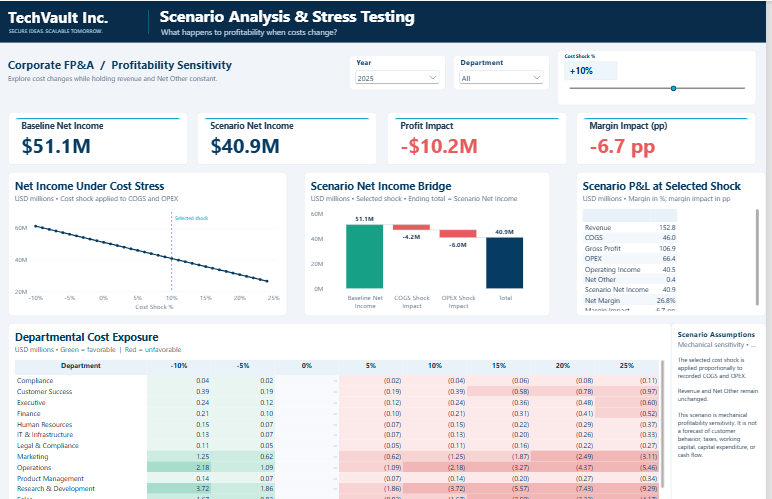

Layout of this report page (visuals, bound fields, positions):
{"tool":"powerbi","page":{"name":"Scenario Analysis","canvas":[1920,1600],"ordinal":1},"visuals":[{"type":"slicer","fields":{"Values":["Cost Shock %.Cost Shock %"]},"box":[1398,122,498,138],"z":0},{"type":"slicer","fields":{"Values":["dim_date.year"]},"box":[878,136,242,88],"z":1000},{"type":"cardVisual","fields":{"Data":["_measures.Scenario Net Income"]},"box":[498,278,450,132],"z":2000},{"type":"cardVisual","fields":{"Data":["_measures.Net Income Stress Impact $"]},"box":[972,278,450,132],"z":3000},{"type":"cardVisual","fields":{"Data":["_measures.Net Margin Stress Impact pp"]},"box":[1446,278,450,132],"z":4000},{"type":"cardVisual","fields":{"Data":["_measures.Net Income"]},"box":[24,278,450,132],"z":5000},{"type":"lineChart","title":"Net Income Under Cost Stress","fields":{"Category":["Stress Grid.Value"],"Y":["_measures.Net Income at Grid Shock"]},"box":[25,427.5,697.5,360],"z":6000},{"type":"waterfallChart","title":"Scenario Net Income Bridge","fields":{"Category":["Scenario Bridge.Stage"],"Y":["_measures.Scenario Bridge Amount"]},"box":[765,427.5,615,360],"z":7000},{"type":"pivotTable","title":"Departmental Cost Exposure","fields":{"Columns":["Cost Shock Grid.Shock Label"],"Rows":["dim_department.department_name"],"Values":["_measures.Departmental Cost Shock Impact"]},"box":[25,805,1657.5,460],"z":8000},{"type":"pivotTable","title":"Scenario P&L at Selected Shock","fields":{"Values":["_measures.Scenario Revenue","_measures.Scenario COGS","_measures.Scenario Gross Profit","_measures.Scenario OPEX","_measures.Scenario Operating Income","_measures.Net Other","_measures.Scenario Net Income","_measures.Scenario Net Margin %","_measures.Net Margin Stress Impact pp"]},"box":[1445,427.5,475,360],"z":18000},{"type":"textbox","title":"Scenario Assumptions","box":[1682.5,805,237.5,460],"z":19000},{"type":"shape","box":[0,0,1920,104],"z":20900},{"type":"textbox","box":[26,12,335,67],"z":21000},{"type":"textbox","box":[28,66,330,33],"z":21100},{"type":"shape","box":[376,22,2,60],"z":21200},{"type":"textbox","box":[405,10,1480,68],"z":21300},{"type":"textbox","box":[407,62,1320,40],"z":21400},{"type":"textbox","box":[24,139,815,38],"z":21500},{"type":"textbox","box":[26,180,815,26],"z":21600},{"type":"slicer","fields":{"Values":["dim_department.department_name"]},"box":[1138,136,242,88],"z":21700}]}

Visuals, with their boxes on the page's 1920x1600 design canvas (x1, y1, x2, y2). These are canvas units, not pixel positions in the 772x499 screenshot, which may show the page scaled, cropped or inside an application window:
slicer - Cost Shock %.Cost Shock %: <bbox>1398, 122, 1896, 260</bbox>
slicer - dim_date.year: <bbox>878, 136, 1120, 224</bbox>
cardVisual - _measures.Scenario Net Income: <bbox>498, 278, 948, 410</bbox>
cardVisual - _measures.Net Income Stress Impact $: <bbox>972, 278, 1422, 410</bbox>
cardVisual - _measures.Net Margin Stress Impact pp: <bbox>1446, 278, 1896, 410</bbox>
cardVisual - _measures.Net Income: <bbox>24, 278, 474, 410</bbox>
"Net Income Under Cost Stress" lineChart: <bbox>25, 428, 722, 788</bbox>
"Scenario Net Income Bridge" waterfallChart: <bbox>765, 428, 1380, 788</bbox>
"Departmental Cost Exposure" pivotTable: <bbox>25, 805, 1682, 1265</bbox>
"Scenario P&L at Selected Shock" pivotTable: <bbox>1445, 428, 1920, 788</bbox>
"Scenario Assumptions" textbox: <bbox>1682, 805, 1920, 1265</bbox>
shape: <bbox>0, 0, 1920, 104</bbox>
textbox: <bbox>26, 12, 361, 79</bbox>
textbox: <bbox>28, 66, 358, 99</bbox>
shape: <bbox>376, 22, 378, 82</bbox>
textbox: <bbox>405, 10, 1885, 78</bbox>
textbox: <bbox>407, 62, 1727, 102</bbox>
textbox: <bbox>24, 139, 839, 177</bbox>
textbox: <bbox>26, 180, 841, 206</bbox>
slicer - dim_department.department_name: <bbox>1138, 136, 1380, 224</bbox>
